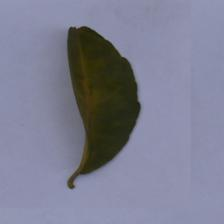greening: (67, 37, 109, 122)
